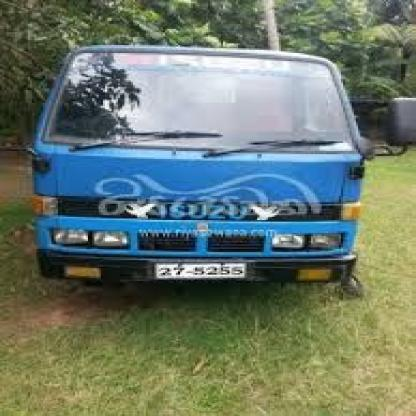Lorry front: (22, 34, 416, 296)
number plate: (154, 258, 247, 278)
